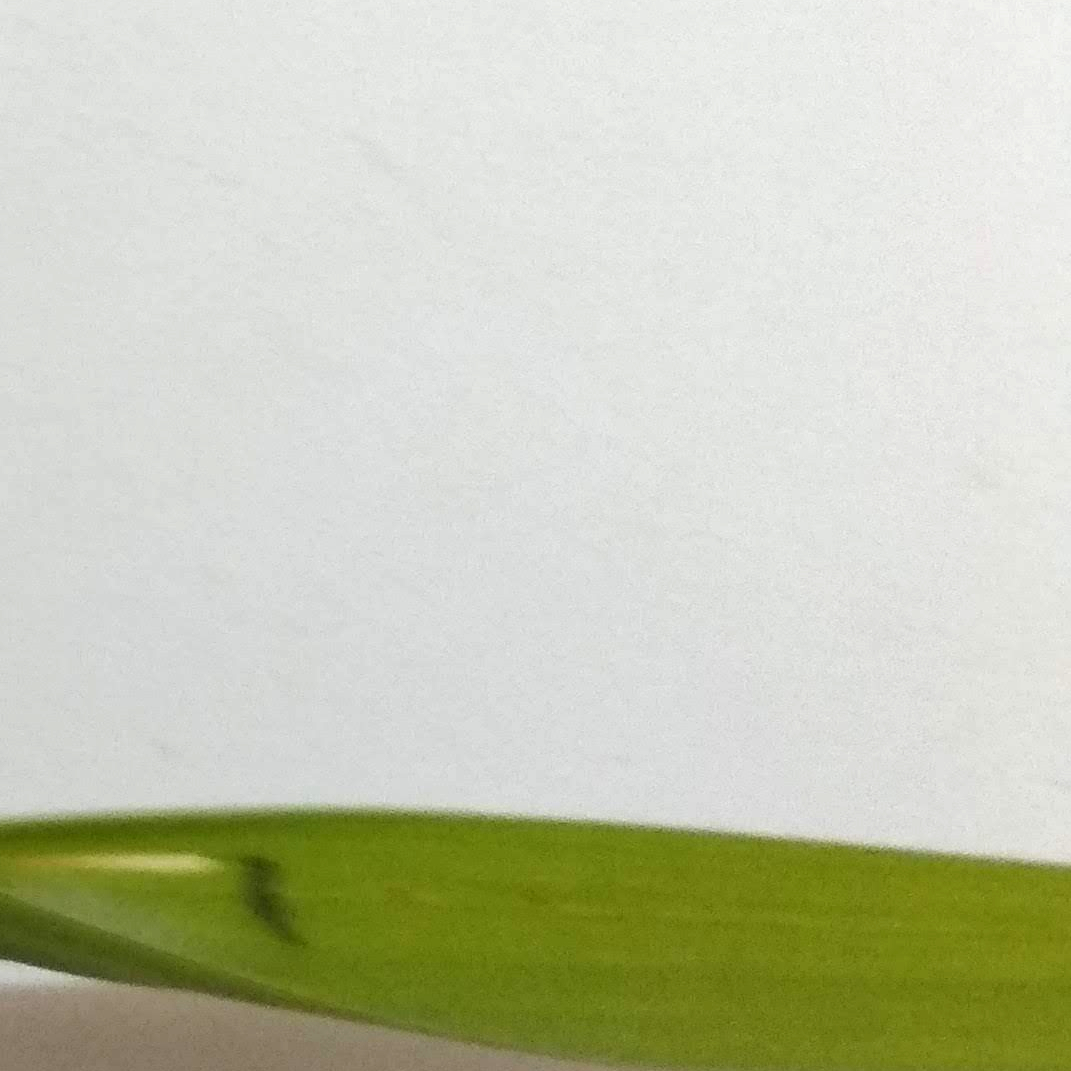hispa: (2, 797, 1070, 1070)
